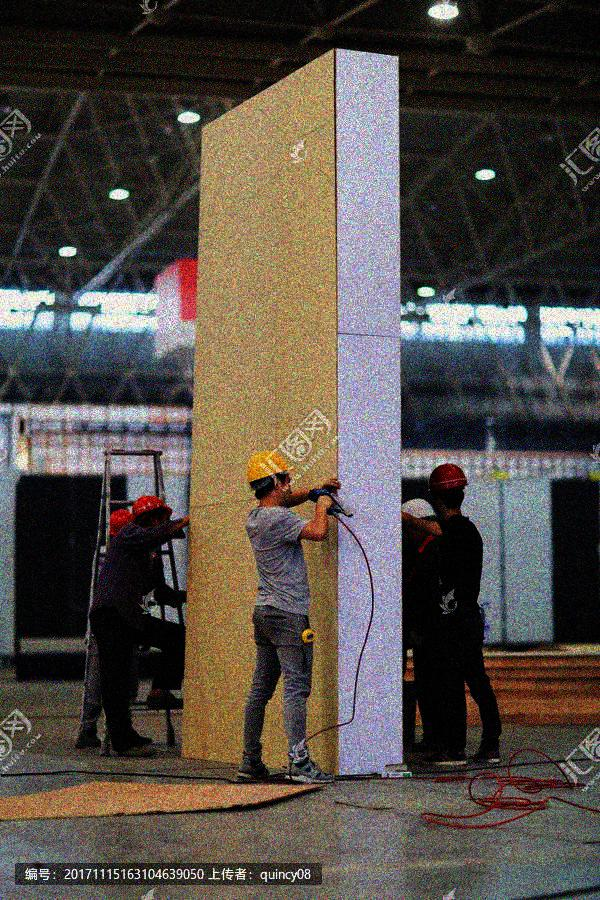helmet: (245, 447, 296, 506), (397, 492, 445, 546), (427, 463, 470, 513), (129, 493, 174, 532), (104, 508, 136, 547)
